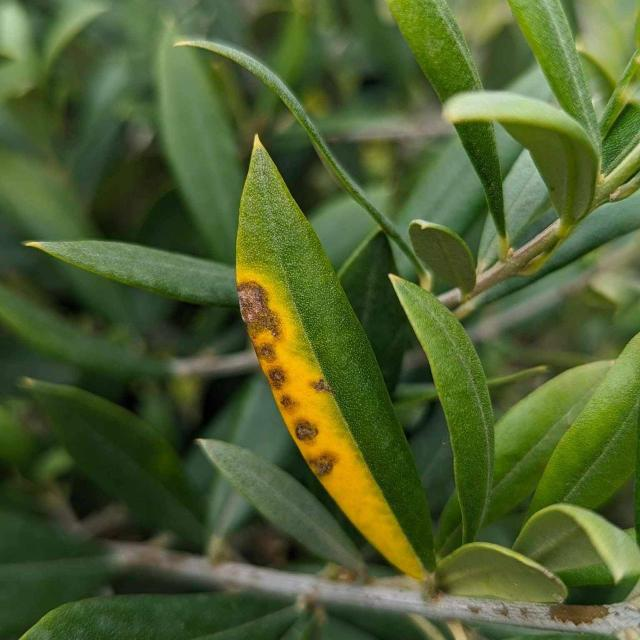Peacock Eye: (236, 136, 435, 580)
